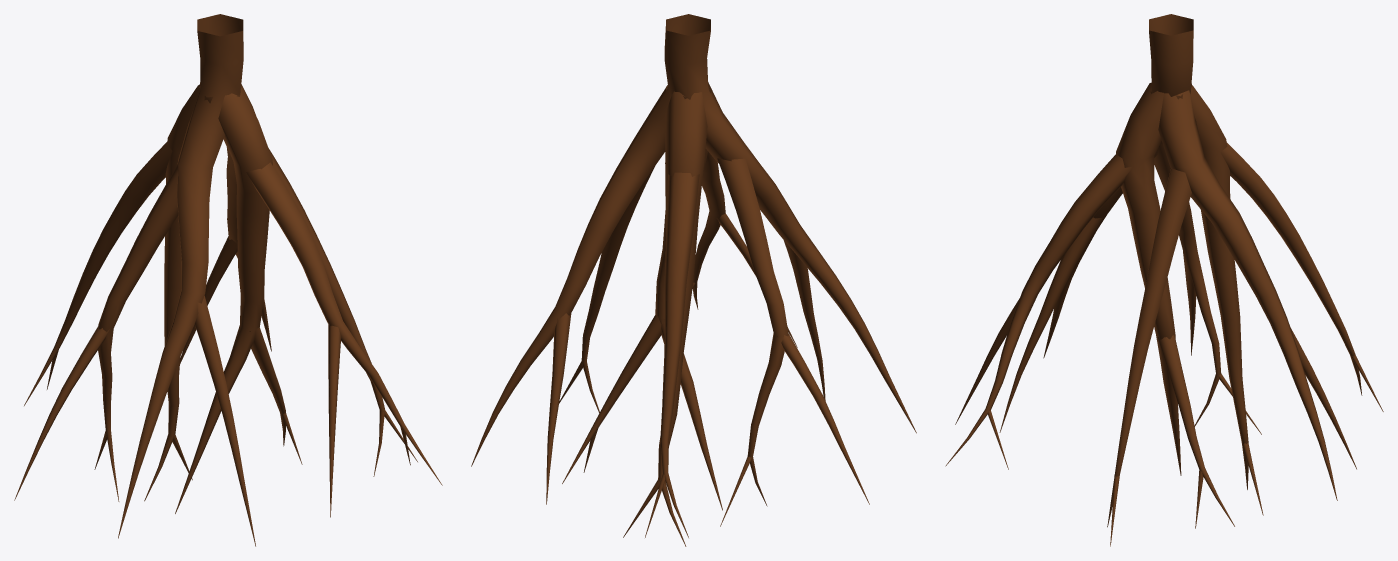
Rendered from tree_forest 1.fbx.
The picture shows the model from 3 angles, left to right: view 1: azimuth 30°, elevation 25°; view 2: azimuth 150°, elevation 25°; view 3: azimuth 270°, elevation 25°; orthographic projection. The views are drawn at different scales.
Parts seen in each view (by area): view 1: tree.001; view 2: tree.001; view 3: tree.001.
Boxes of the visible parts, x1,y1,x2,y2 form: tree.001: (14, 14, 442, 546); tree.001: (471, 14, 916, 546); tree.001: (945, 14, 1383, 546).
Bounding box in the file's own units: 376 × 492 × 405.
